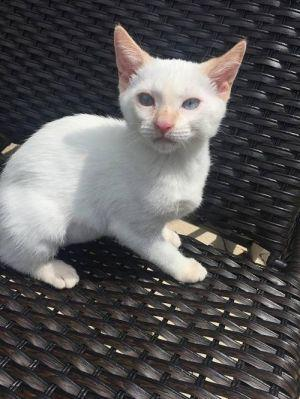siamese: (109, 21, 251, 166)
